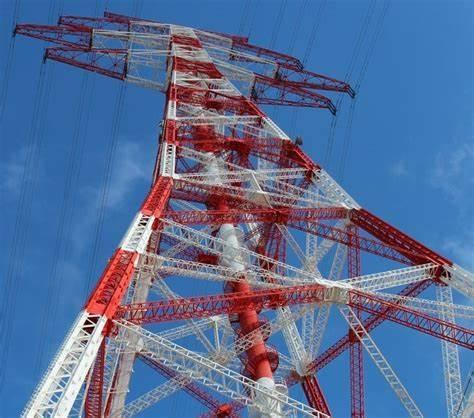power_tower: (16, 10, 474, 417)
